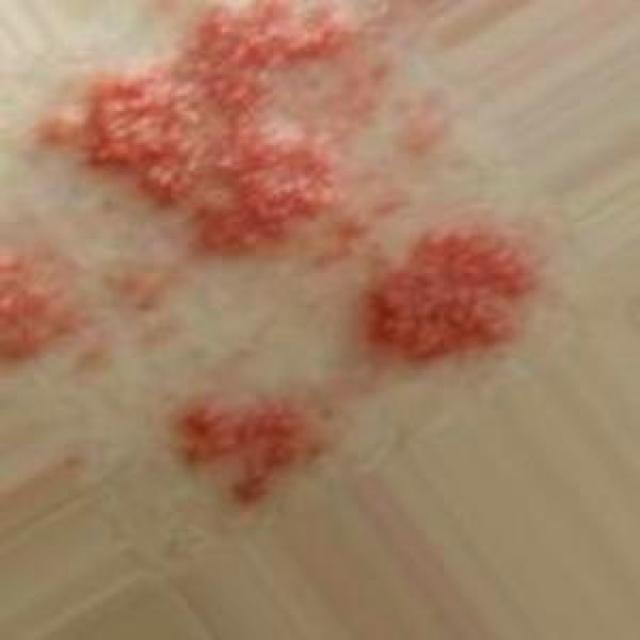Shingles: (36, 0, 370, 244), (364, 218, 545, 360), (173, 388, 329, 498), (0, 243, 84, 363)
